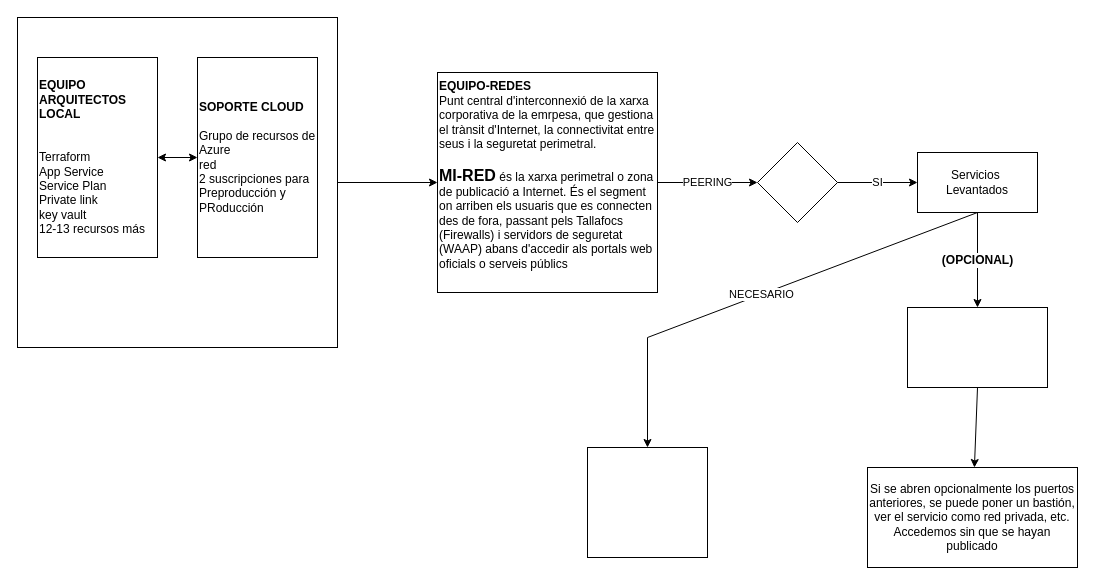
Image size: 1095x585. Some labels were removed from this diagram. The box of each missing label's shape, as (x1, y1, x2, y2) in pixels:
QUIÉN? Equipo redes Publicación en internet. Mapeos, certificados, etc.: (586, 446, 708, 558)
Reglas Firewall Se abren 2 puetos 22 y 443: (906, 306, 1048, 388)
¿peering ok?: (756, 142, 838, 222)
